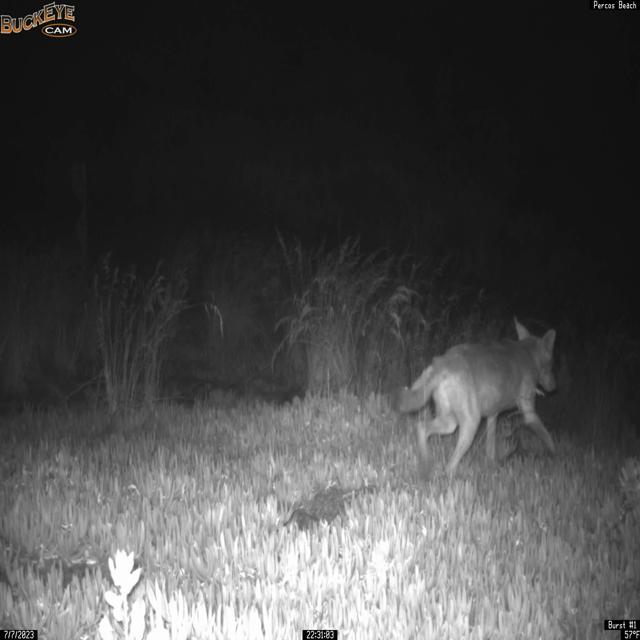coyote: (395, 315, 559, 480)
